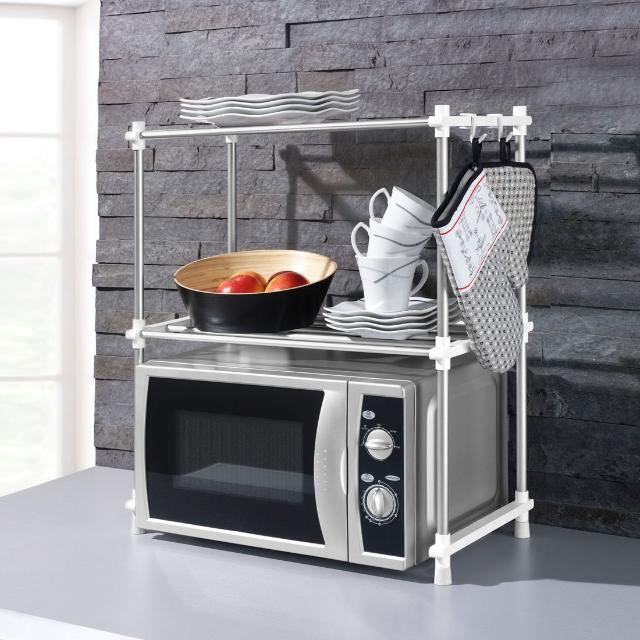Microwave: (126, 345, 512, 577)
